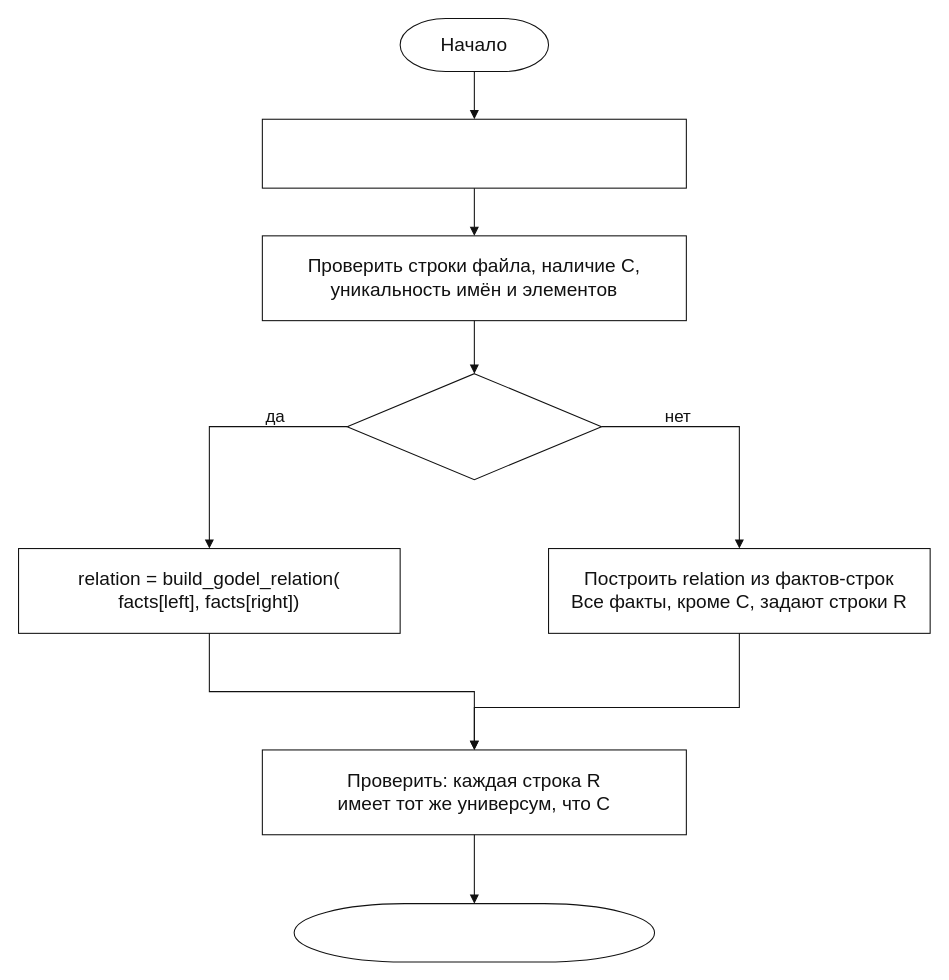
The diagram is 949 pixels wide and 980 high, and some of its shapes have lost their labels. The shapes that lost their labels are listed below. From the top down, each one's centre as x and y in pixels, then its label:
At pixel 473 153: "facts, rules = read_knowledge_base(filename)".
At pixel 474 426: "Правило задано?".
At pixel 474 932: "return relation, facts['C']".
